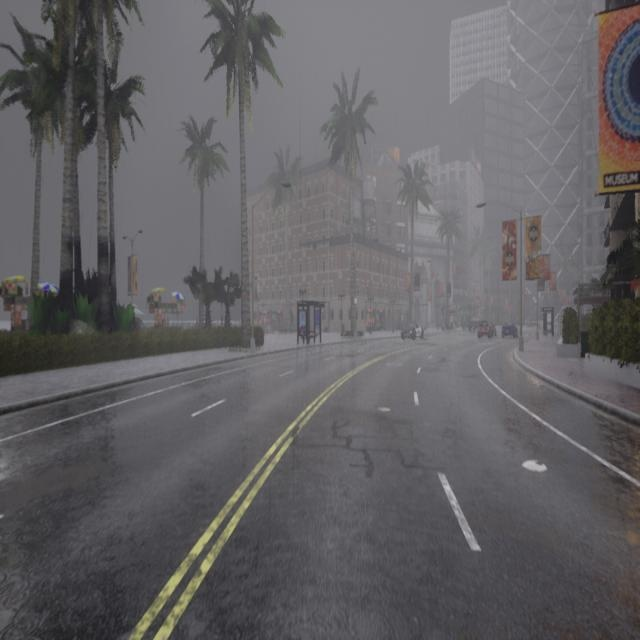bien_chi_dan: (524, 290, 528, 300), (544, 289, 547, 298), (525, 289, 527, 295), (544, 290, 546, 293)
